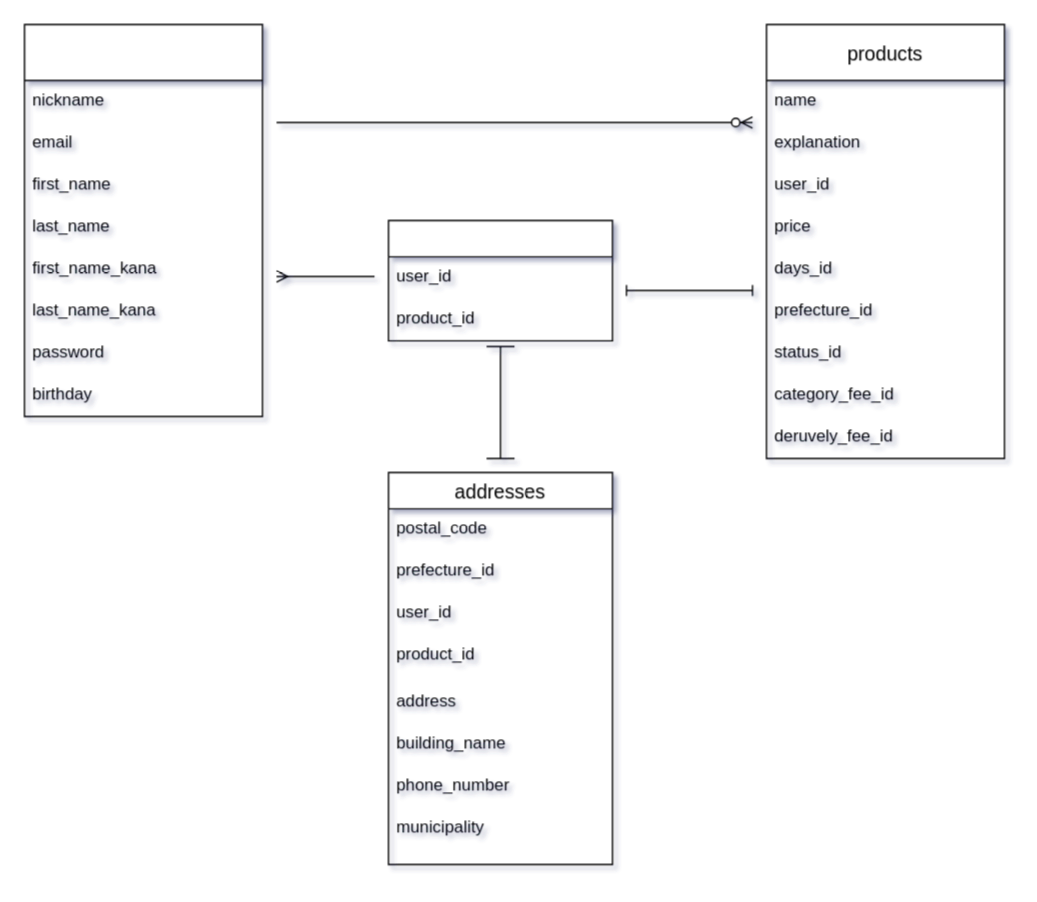
Image size: 1037x902. Some labels were removed from this diagram. The box of each missing label's shape, as (x1, y1, x2, y2) in pixels:
purchases: (387, 219, 612, 341)
users: (23, 23, 262, 416)
